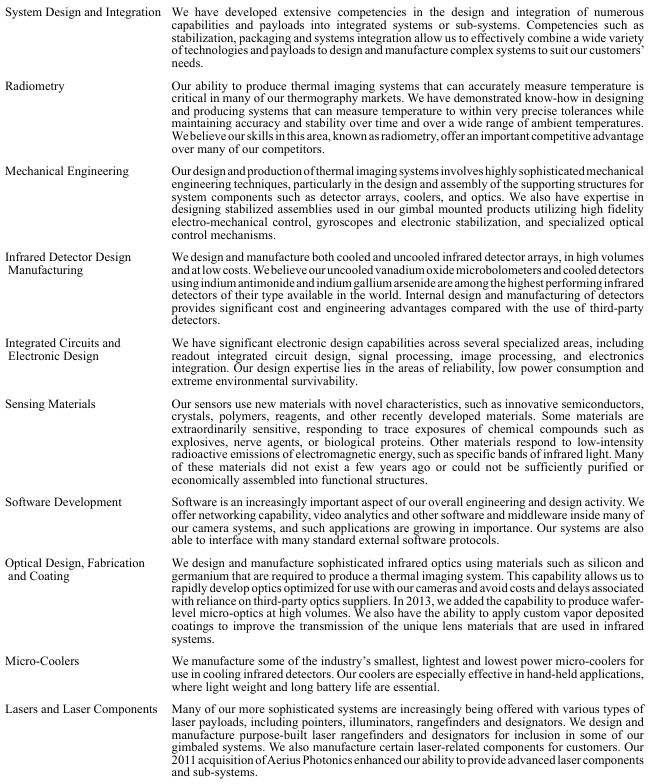table: (3, 4, 643, 778)
table column: (165, 4, 643, 778), (3, 4, 165, 778)
table row: (3, 391, 643, 489), (3, 550, 643, 648), (3, 72, 643, 158), (3, 158, 643, 244), (3, 244, 643, 330), (3, 696, 643, 778), (3, 4, 643, 72), (3, 330, 643, 391), (3, 489, 643, 550), (3, 648, 643, 696)
